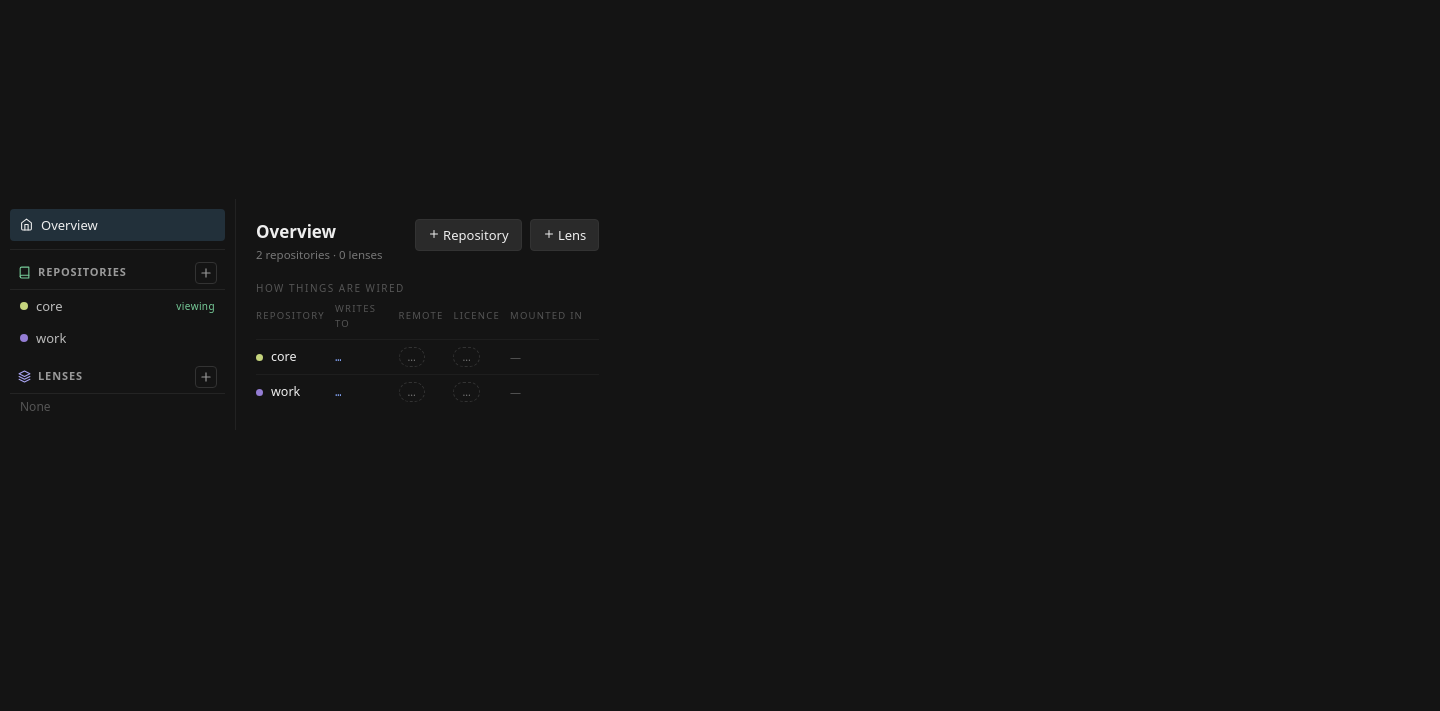
Test: RepoManager › the connect sub-page › switching repos in the rail leaves the flow
Click the button with test id "repomgr-item-core".
click(118, 306)  # box [10,290,225,322]
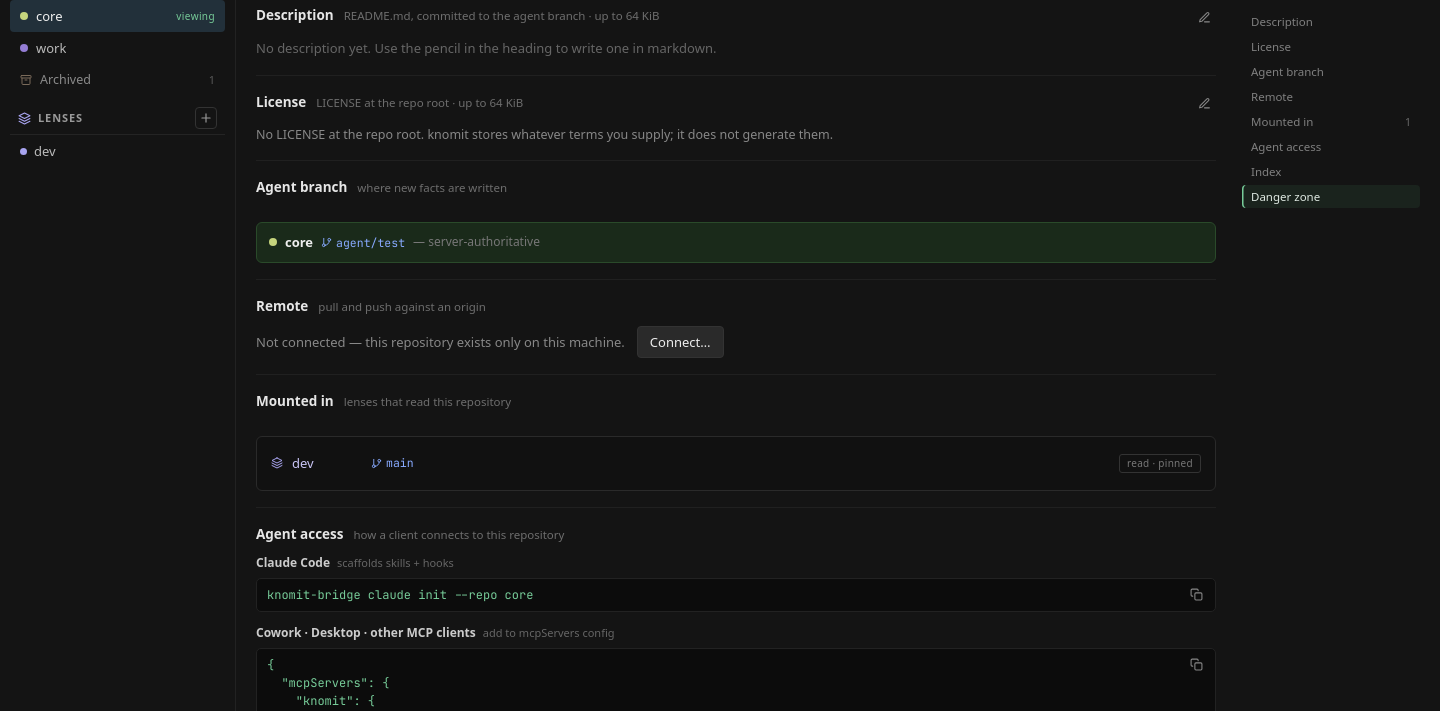
Click the button with test id "remote-connect".
click(680, 342)  # box [637,326,724,358]
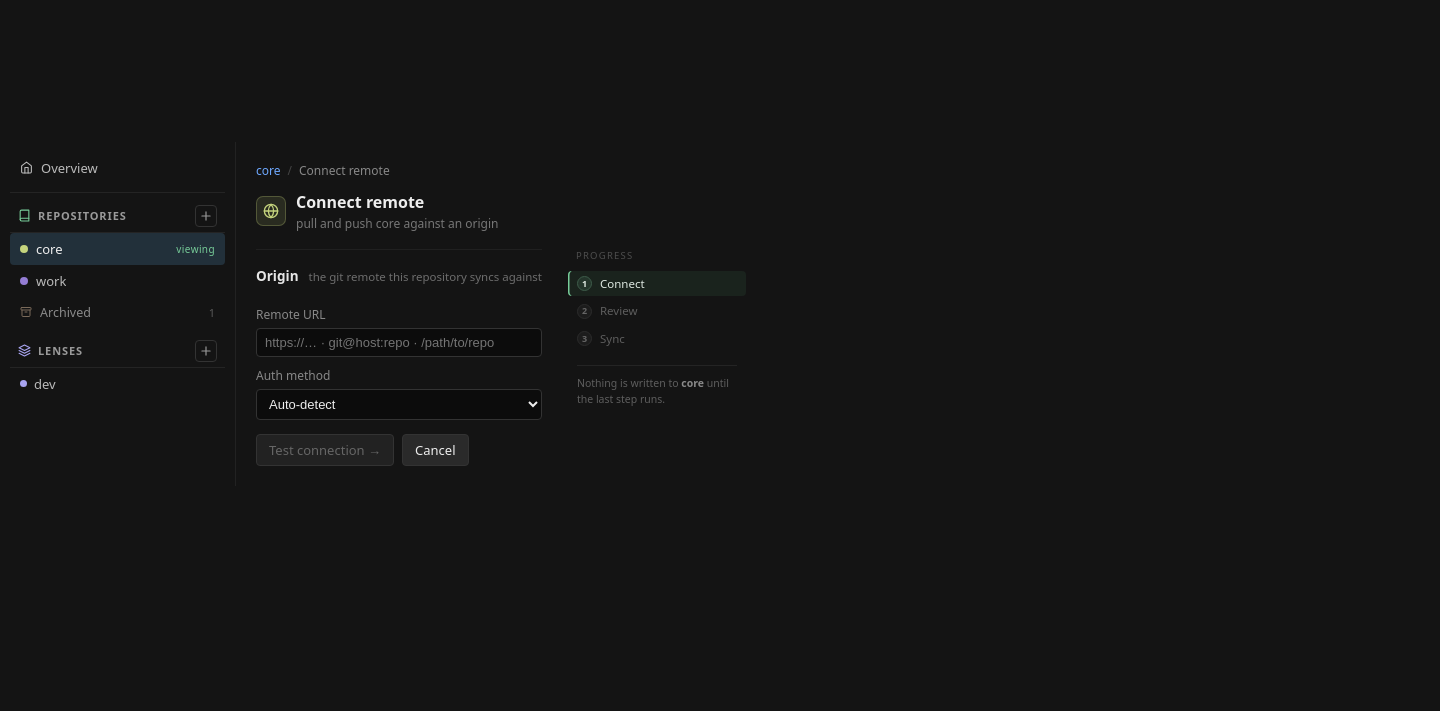
Click the button with test id "repomgr-item-work".
click(118, 281)  # box [10,265,225,297]
(page scrolled)
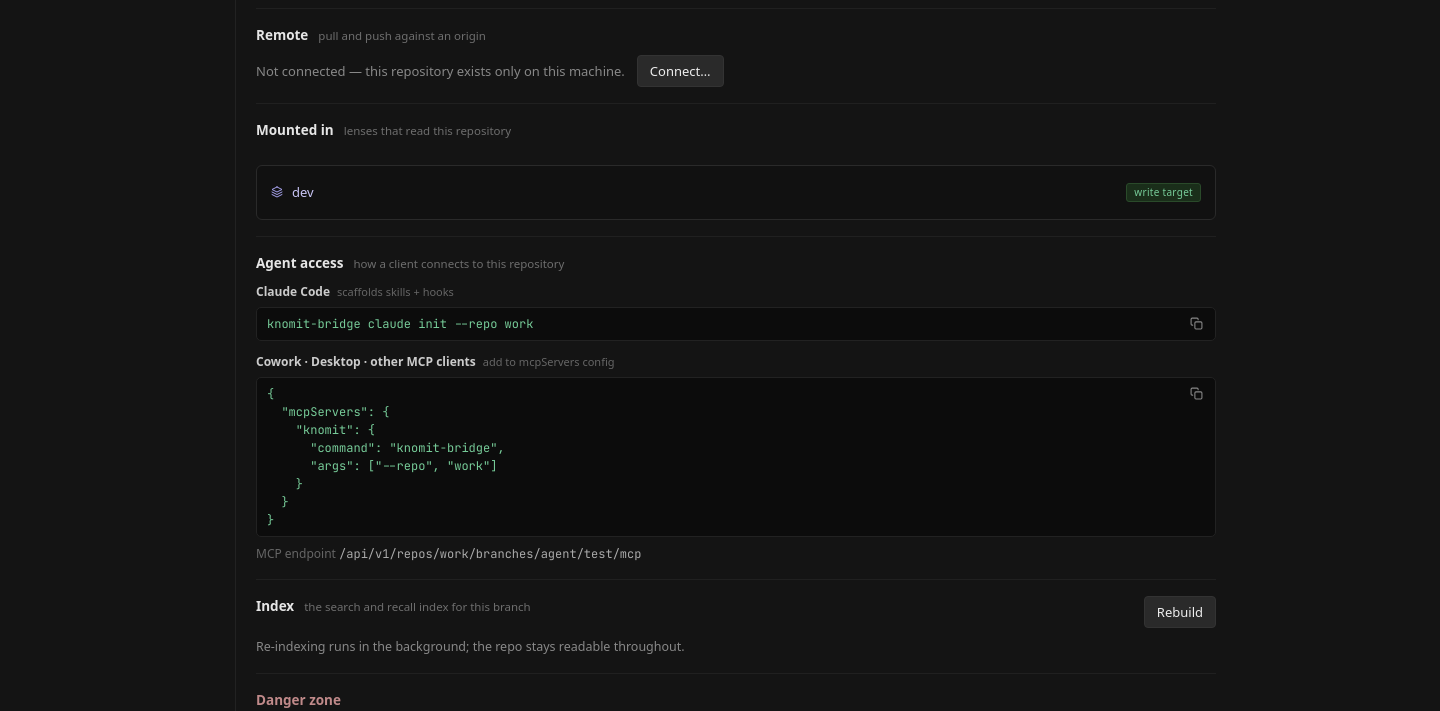
Now the element with test id "remote-connect-wizard" is gone
